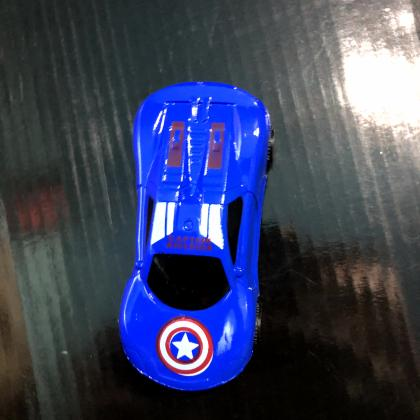Car: (117, 82, 272, 394)
